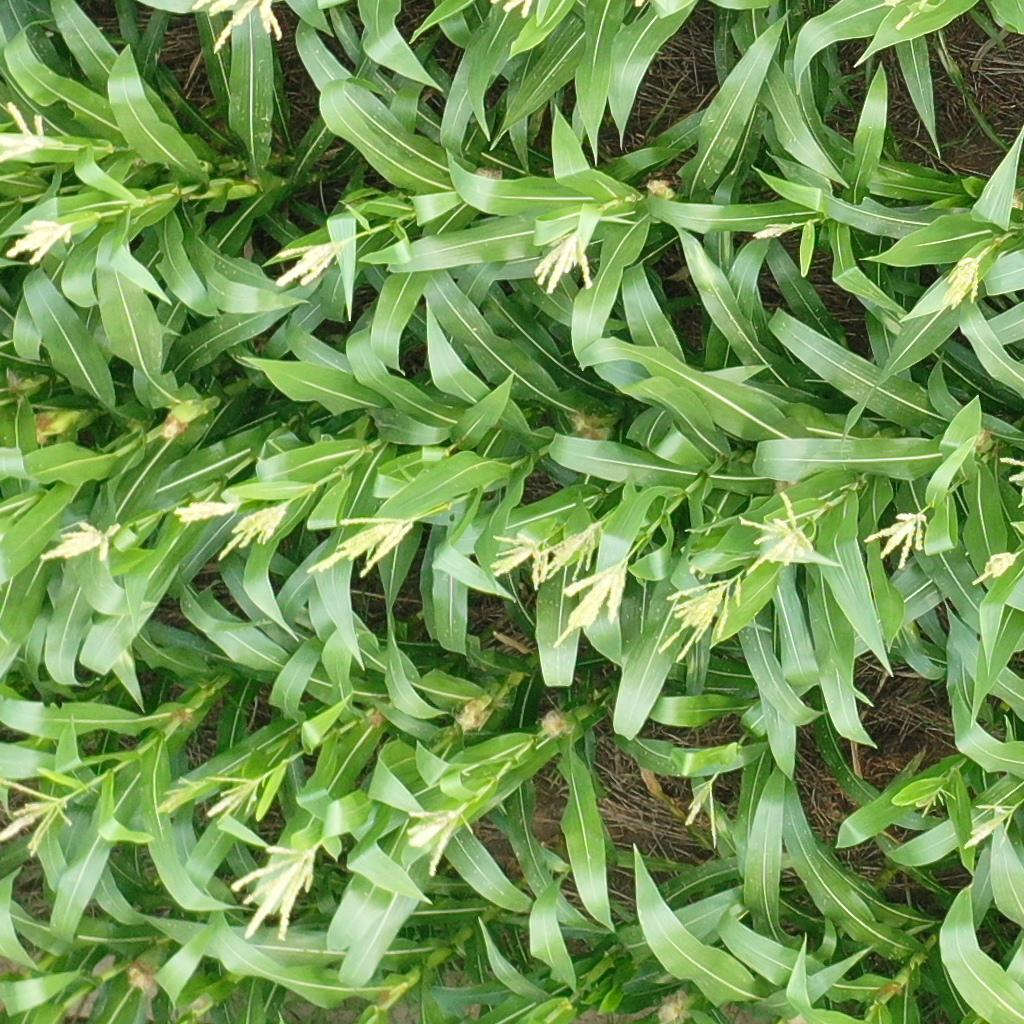Tassel: (232, 838, 321, 944), (657, 569, 740, 663), (305, 515, 420, 581), (553, 559, 631, 649), (740, 491, 815, 580), (1, 783, 74, 859), (191, 1, 284, 59), (216, 499, 296, 564), (406, 801, 467, 879), (534, 227, 599, 295), (537, 519, 600, 587), (863, 511, 933, 572), (1, 99, 63, 164), (484, 529, 547, 590), (6, 217, 72, 273), (680, 774, 727, 851), (271, 243, 351, 288), (40, 520, 124, 562), (203, 768, 266, 823), (940, 242, 989, 310), (961, 797, 1017, 850), (170, 492, 237, 526), (157, 771, 206, 814), (970, 546, 1021, 586), (753, 217, 808, 240), (918, 784, 955, 818)
